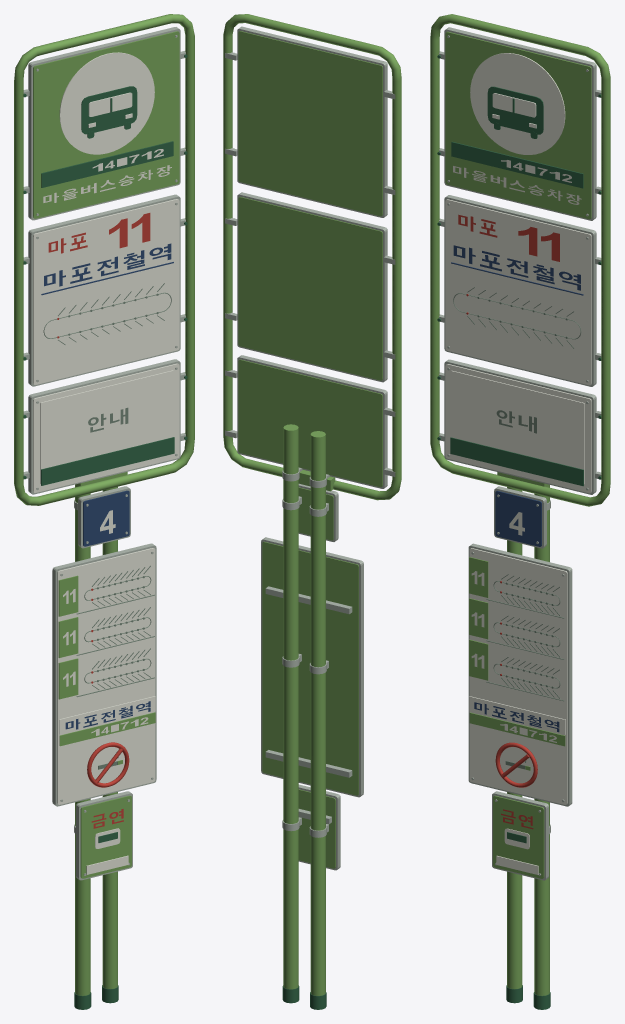
The model's file is bus-approved-v2.glb.
3 views of the same model, side by side, from view 1: azimuth 30°, elevation 25°; view 2: azimuth 150°, elevation 25°; view 3: azimuth 330°, elevation 25° (orthographic).
Visible parts, largest first — view 1: 마포 마을버스 정류장 · 사진 비율 개선; view 2: 마포 마을버스 정류장 · 사진 비율 개선; view 3: 마포 마을버스 정류장 · 사진 비율 개선.
Boxes of the visible parts, x1,y1,x2,y2 form: 마포 마을버스 정류장 · 사진 비율 개선: (14, 14, 194, 1009); 마포 마을버스 정류장 · 사진 비율 개선: (223, 14, 401, 1009); 마포 마을버스 정류장 · 사진 비율 개선: (430, 14, 610, 1009).
Size of the model in its own units: 0.613 by 3.19 by 0.1155.
